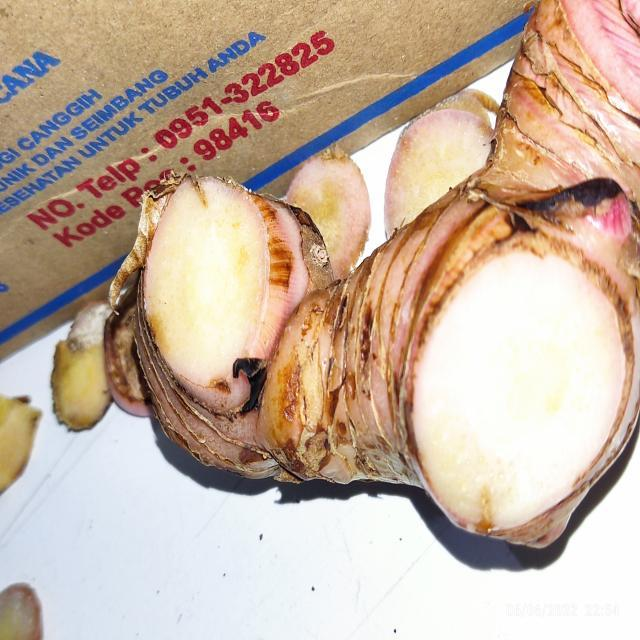ginger: (114, 1, 640, 563)
